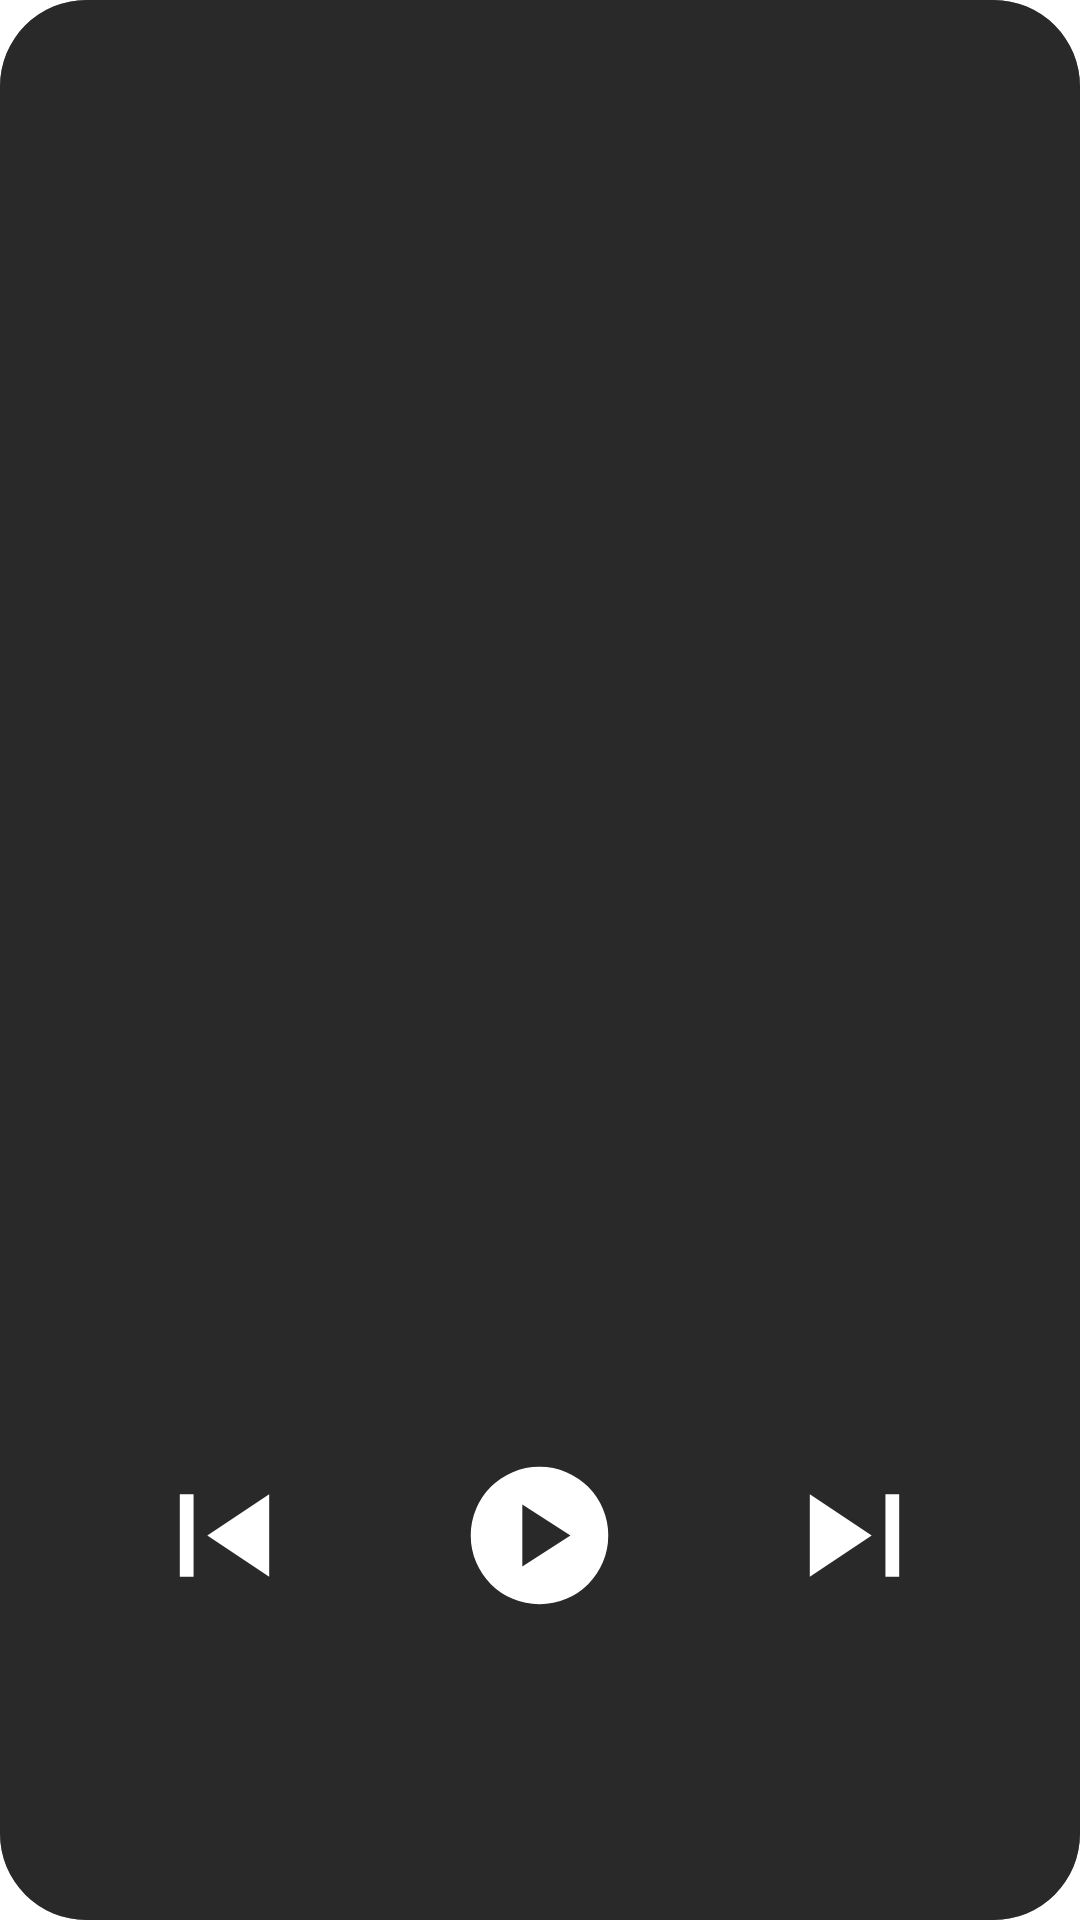

Icons on this 1080px×1920px Android screen, each with its box as (x1, y1, x2, y2):
play: (470, 1466, 609, 1605)
skip next: (809, 1494, 900, 1577)
skip prev: (179, 1494, 270, 1577)
